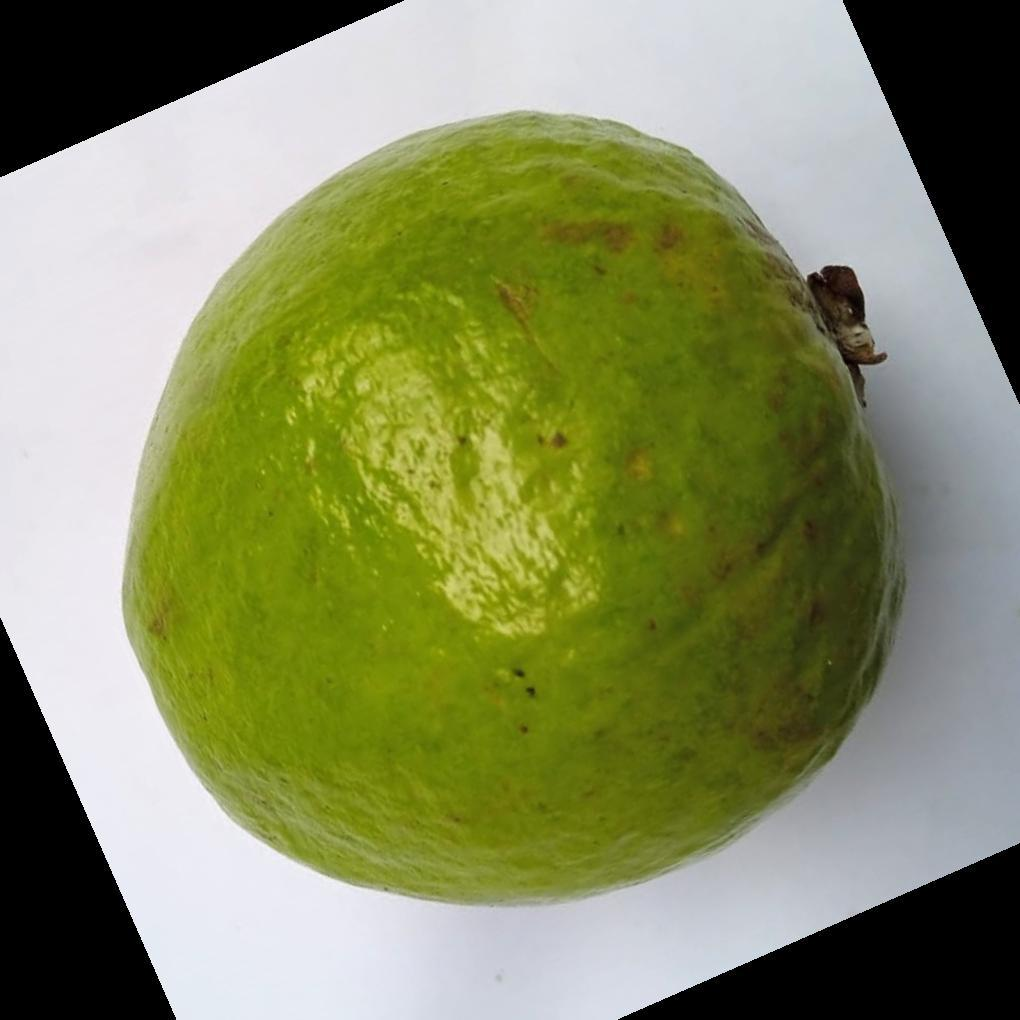FreshGuava: (119, 111, 907, 912)
